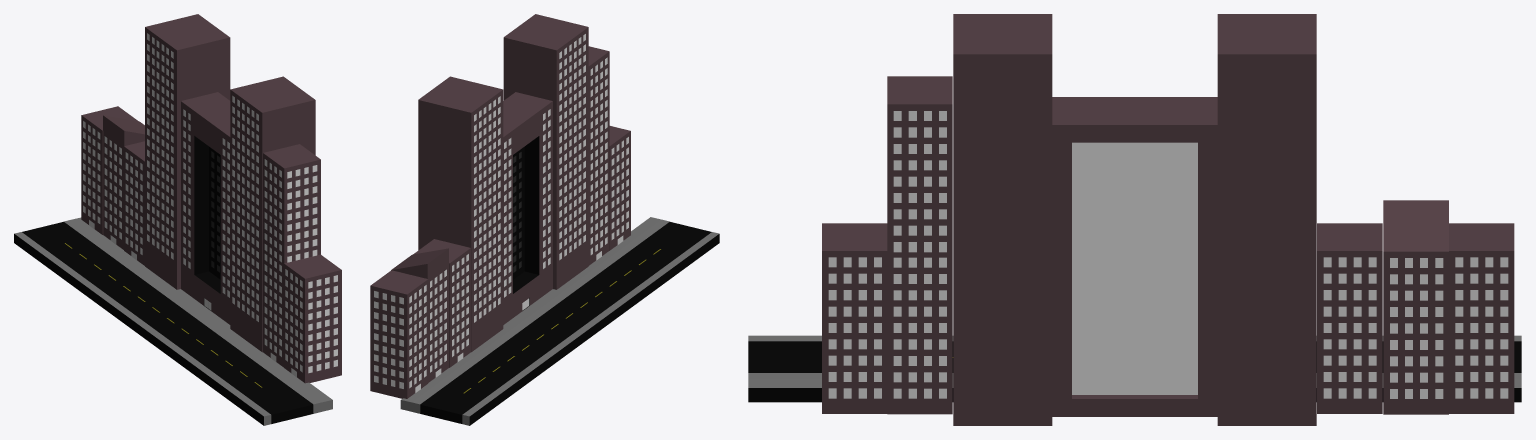
File: Set.fbx
3 views of the same model, side by side, from view 1: azimuth 30°, elevation 25°; view 2: azimuth 150°, elevation 25°; view 3: azimuth 270°, elevation 25° (orthographic). The views are drawn at different scales.
Visible parts, largest first — view 1: Cube.010, Cube.008; view 2: Cube.010, Cube.008; view 3: Cube.010, Cube.008.
Part boxes in pixels (x1,y1,x2,y2): Cube.010: [81, 14, 341, 383]; Cube.008: [14, 217, 332, 425]; Cube.010: [370, 14, 630, 398]; Cube.008: [400, 217, 719, 425]; Cube.010: [822, 14, 1514, 425]; Cube.008: [748, 335, 1521, 402].
Size of what is drawn, in the model's own units: 1397 by 2820 by 5131.
